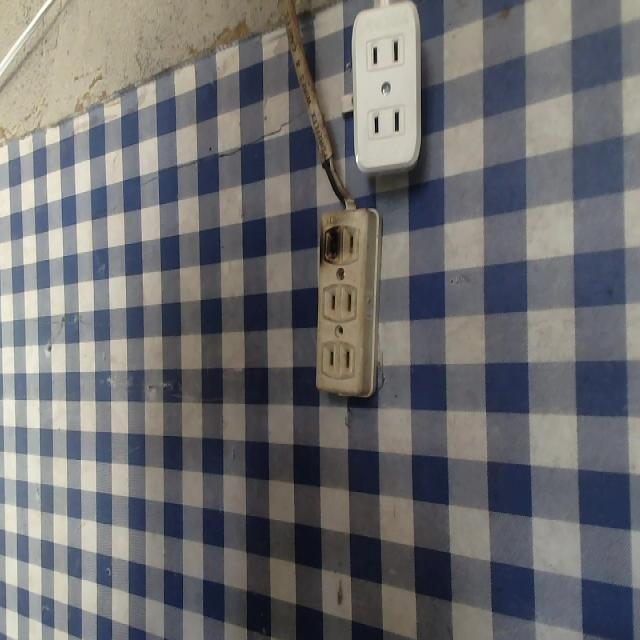-: (312, 217, 346, 268)
